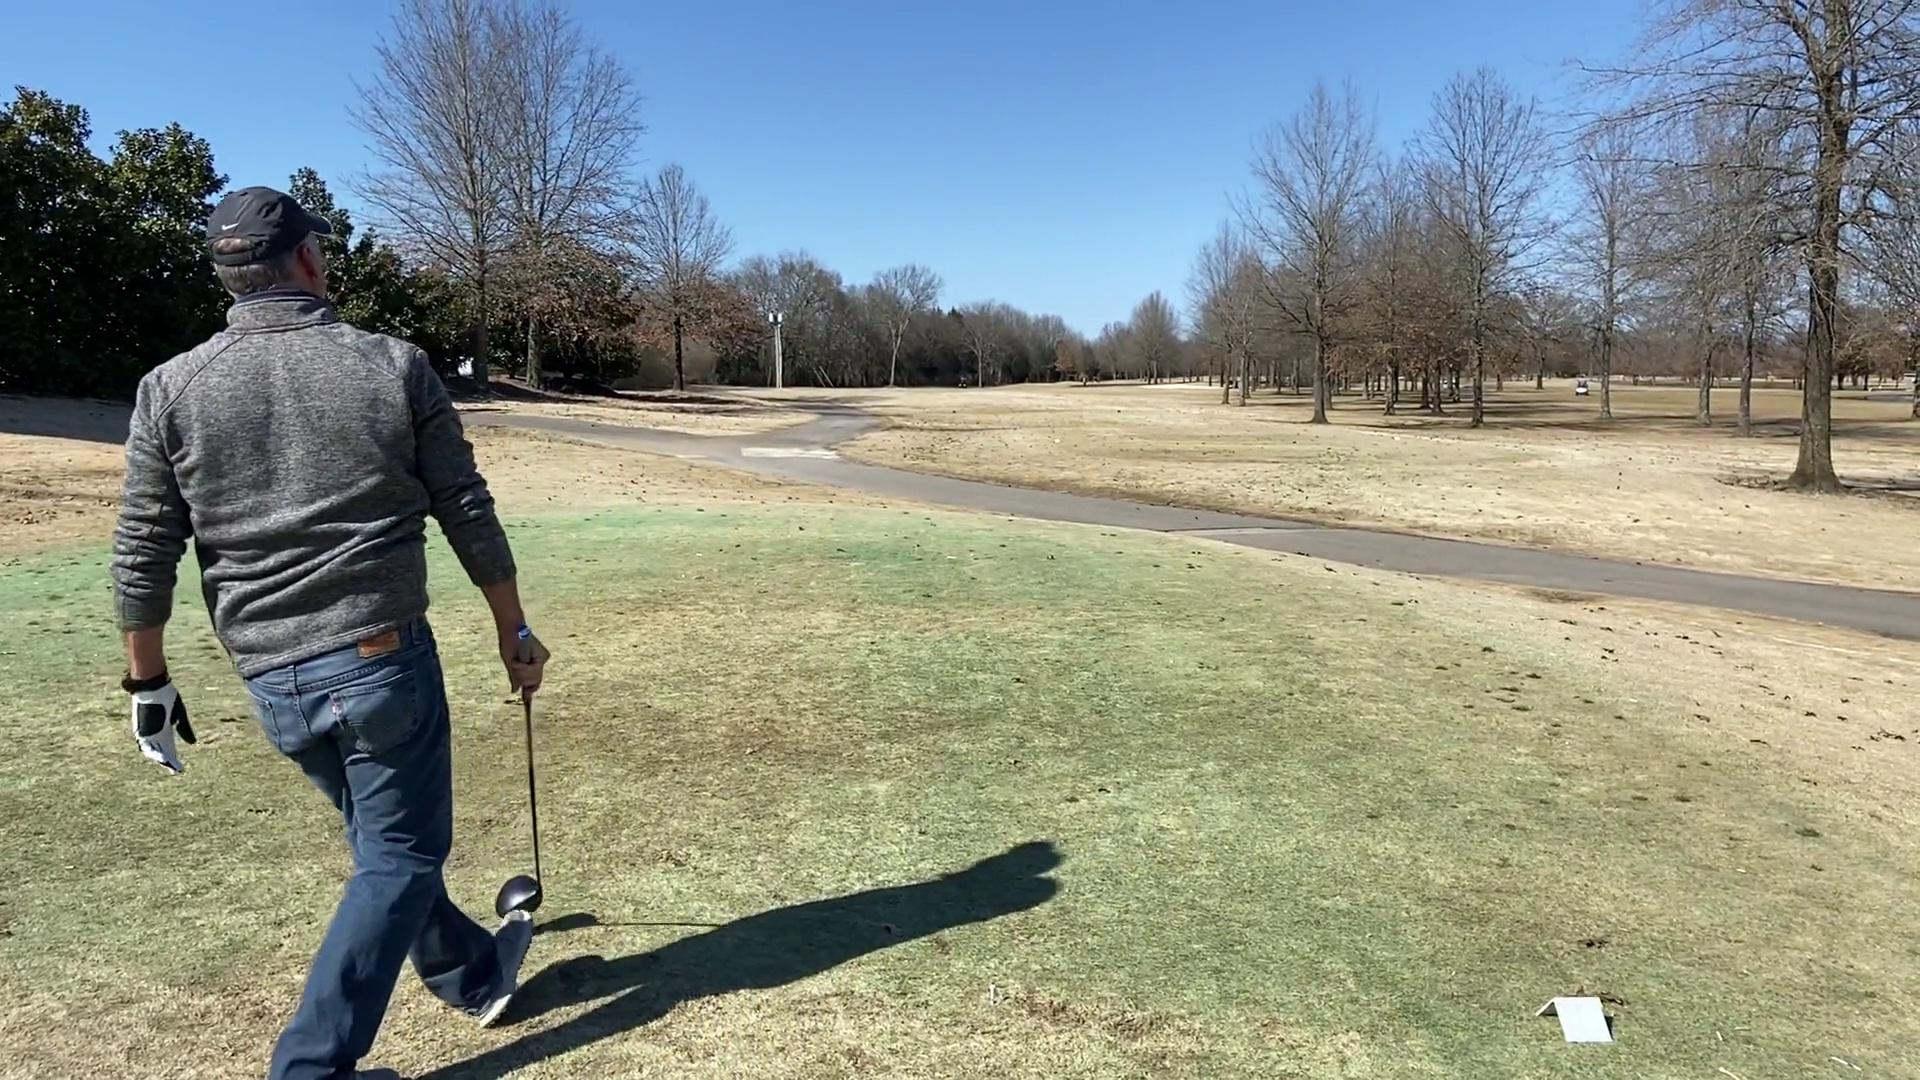ClubHead: (489, 857, 550, 918)
